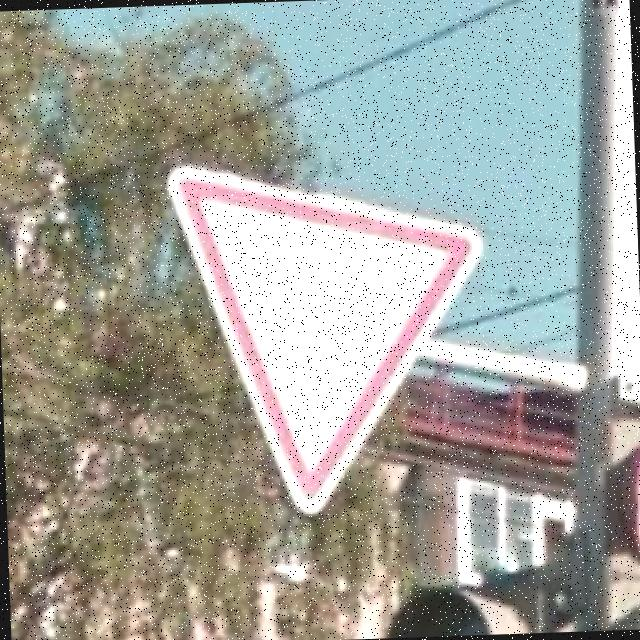Ustap pierwszenstwa: (165, 152, 494, 522)
